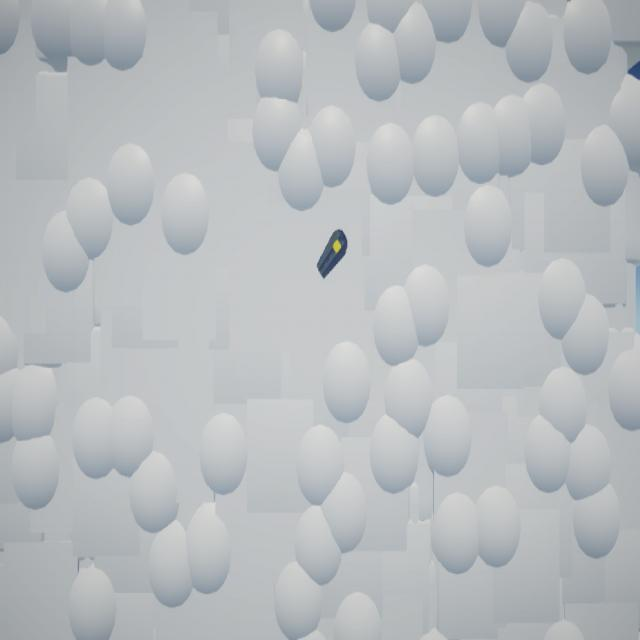handle_folk: (317, 230, 349, 280)
